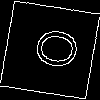O: (25, 25, 80, 71)
